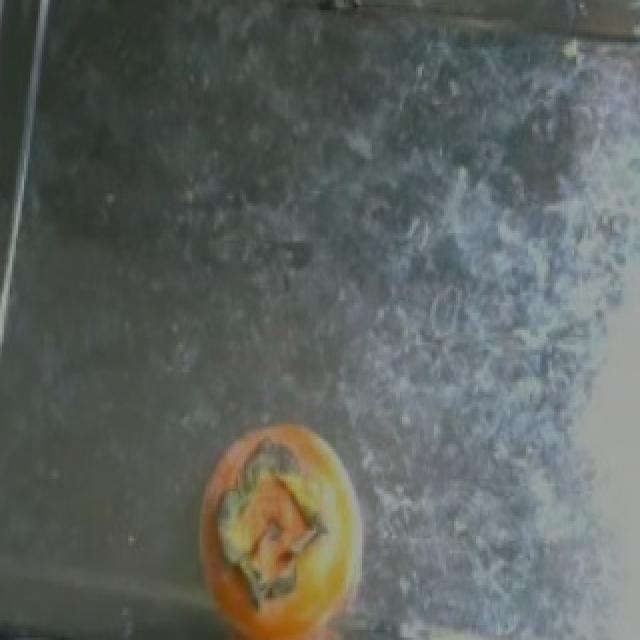Fruit: (184, 402, 378, 640)
